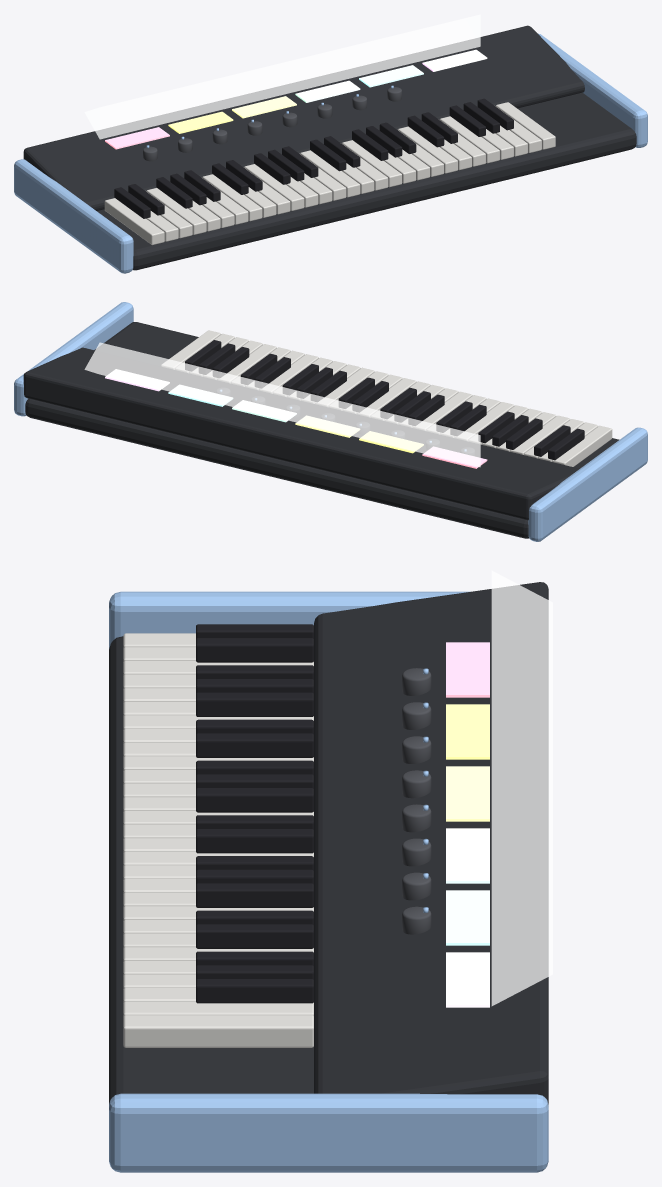
Rendered from Prism.glb.
The picture shows the model from 3 angles, top to bottom: view 1: azimuth 30°, elevation 25°; view 2: azimuth 150°, elevation 25°; view 3: azimuth 270°, elevation 25°; orthographic projection. The views are drawn at different scales.
Parts seen in each view (by area): view 1: Prism_Back, Prism_Base, Prism_Glass, Prism_Cap-1, Prism_Cap1, Prism_W0, Prism_W28, Prism_W10, Prism_W3, Prism_W7, Prism_W14, Prism_W17 (+48 smaller); view 2: Prism_Back, Prism_Glass, Prism_Base, Prism_Cap-1, Prism_Cap1, Prism_W0, Prism_W28, Prism_Ray0, Prism_Ray2, Prism_Ray4, Prism_Ray1, Prism_Ray3 (+28 smaller); view 3: Prism_Back, Prism_Cap1, Prism_Glass, Prism_Base, Prism_Cap-1, Prism_W28, Prism_B1, Prism_B5, Prism_B8, Prism_B12, Prism_B15, Prism_B19 (+48 smaller).
Boxes of the visible parts, x1,y1,x2,y2 form: Prism_Back: (23,25,584,210); Prism_Base: (97,92,636,270); Prism_Glass: (84,14,480,139); Prism_Cap-1: (14,159,133,273); Prism_Cap1: (538,33,647,147); Prism_W0: (104,198,164,245); Prism_W28: (495,102,555,149); Prism_W10: (244,164,304,210); Prism_W3: (146,188,206,234); Prism_W7: (202,174,262,221); Prism_W14: (300,150,360,197); Prism_W17: (342,140,401,187); Prism_Back: (23,347,579,520); Prism_Glass: (84,342,480,467); Prism_Base: (25,322,619,538); Prism_Cap-1: (528,427,647,541); Prism_Cap1: (14,302,133,416); Prism_W0: (552,425,612,466); Prism_W28: (161,330,221,369); Prism_Ray0: (422,446,487,468); Prism_Ray2: (295,415,359,437); Prism_Ray4: (168,385,232,406); Prism_Ray1: (359,431,423,453); Prism_Ray3: (232,400,296,422); Prism_Back: (314,582,548,1104); Prism_Cap1: (109,1093,548,1172); Prism_Glass: (491,570,552,1006); Prism_Base: (109,636,313,1103); Prism_Cap-1: (109,591,470,648); Prism_W28: (123,1015,313,1047); Prism_B1: (196,638,313,662); Prism_B5: (196,692,313,716); Prism_B8: (196,733,313,757); Prism_B12: (196,788,313,812); Prism_B15: (196,829,313,853); Prism_B19: (196,883,313,907).
Bounding box in the file's own units: 0.832 × 0.1222 × 0.303.
